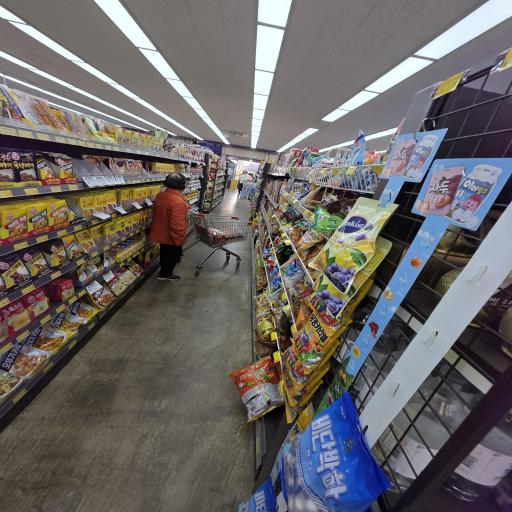fully_cart: (178, 208, 253, 277)
